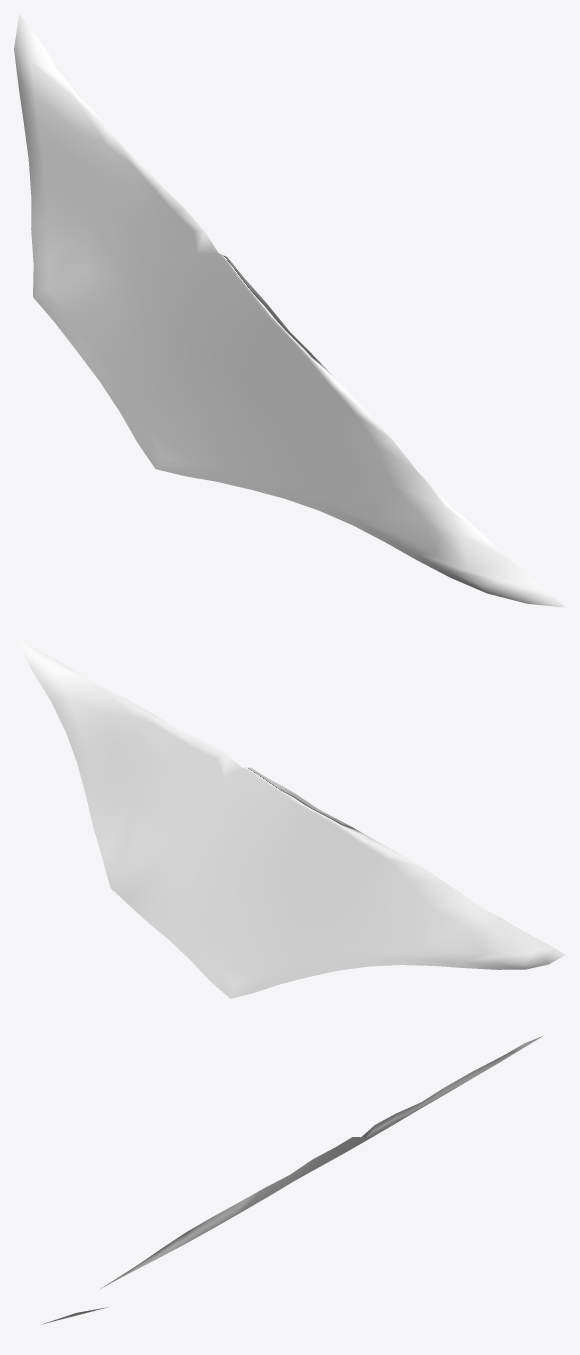
The model's file is Pants_Pocket_Decor_Left_V1.glb.
3 renders of one model, top to bottom at view 1: azimuth 90°, elevation 25°; view 2: azimuth 150°, elevation 25°; view 3: azimuth 270°, elevation 25°, orthographic.
Parts seen in each view (by area): view 1: Pants_Main7_1.001; view 2: Pants_Main7_1.001; view 3: Pants_Main7_1.001.
Boxes of the visible parts, x1,y1,x2,y2 form: Pants_Main7_1.001: (14, 14, 565, 607); Pants_Main7_1.001: (14, 636, 565, 998); Pants_Main7_1.001: (41, 1036, 542, 1324).
Bounding box in the file's own units: 0.0531 × 0.0793 × 0.0874.
Materials: 1 (1 with a texture image).
